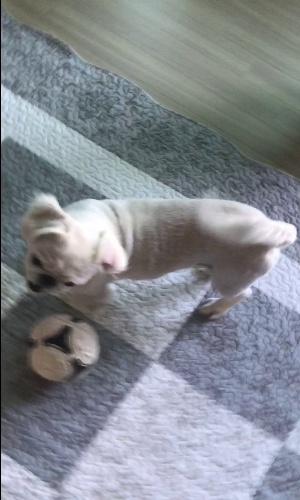ddubi: (20, 187, 300, 324)
